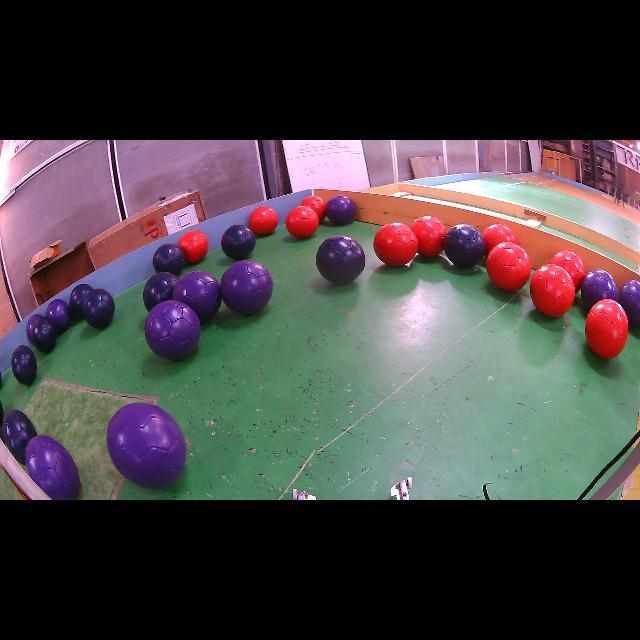B: (316, 235, 365, 285), (2, 410, 38, 464), (442, 224, 485, 269), (142, 272, 179, 311), (82, 289, 115, 329), (221, 225, 256, 260), (26, 314, 58, 352), (11, 345, 38, 385), (152, 244, 185, 275), (46, 299, 71, 333), (69, 284, 92, 318)
P: (106, 402, 186, 489), (25, 435, 81, 500), (145, 300, 200, 360), (220, 260, 274, 315), (172, 271, 221, 322), (581, 269, 618, 310), (619, 280, 640, 324), (325, 195, 355, 224)
R: (585, 299, 629, 359), (530, 264, 575, 318), (486, 241, 531, 291), (374, 222, 418, 266), (551, 250, 586, 292), (411, 216, 446, 256), (482, 224, 519, 256), (286, 206, 319, 238), (179, 230, 209, 262), (249, 206, 279, 235), (300, 195, 326, 221)
